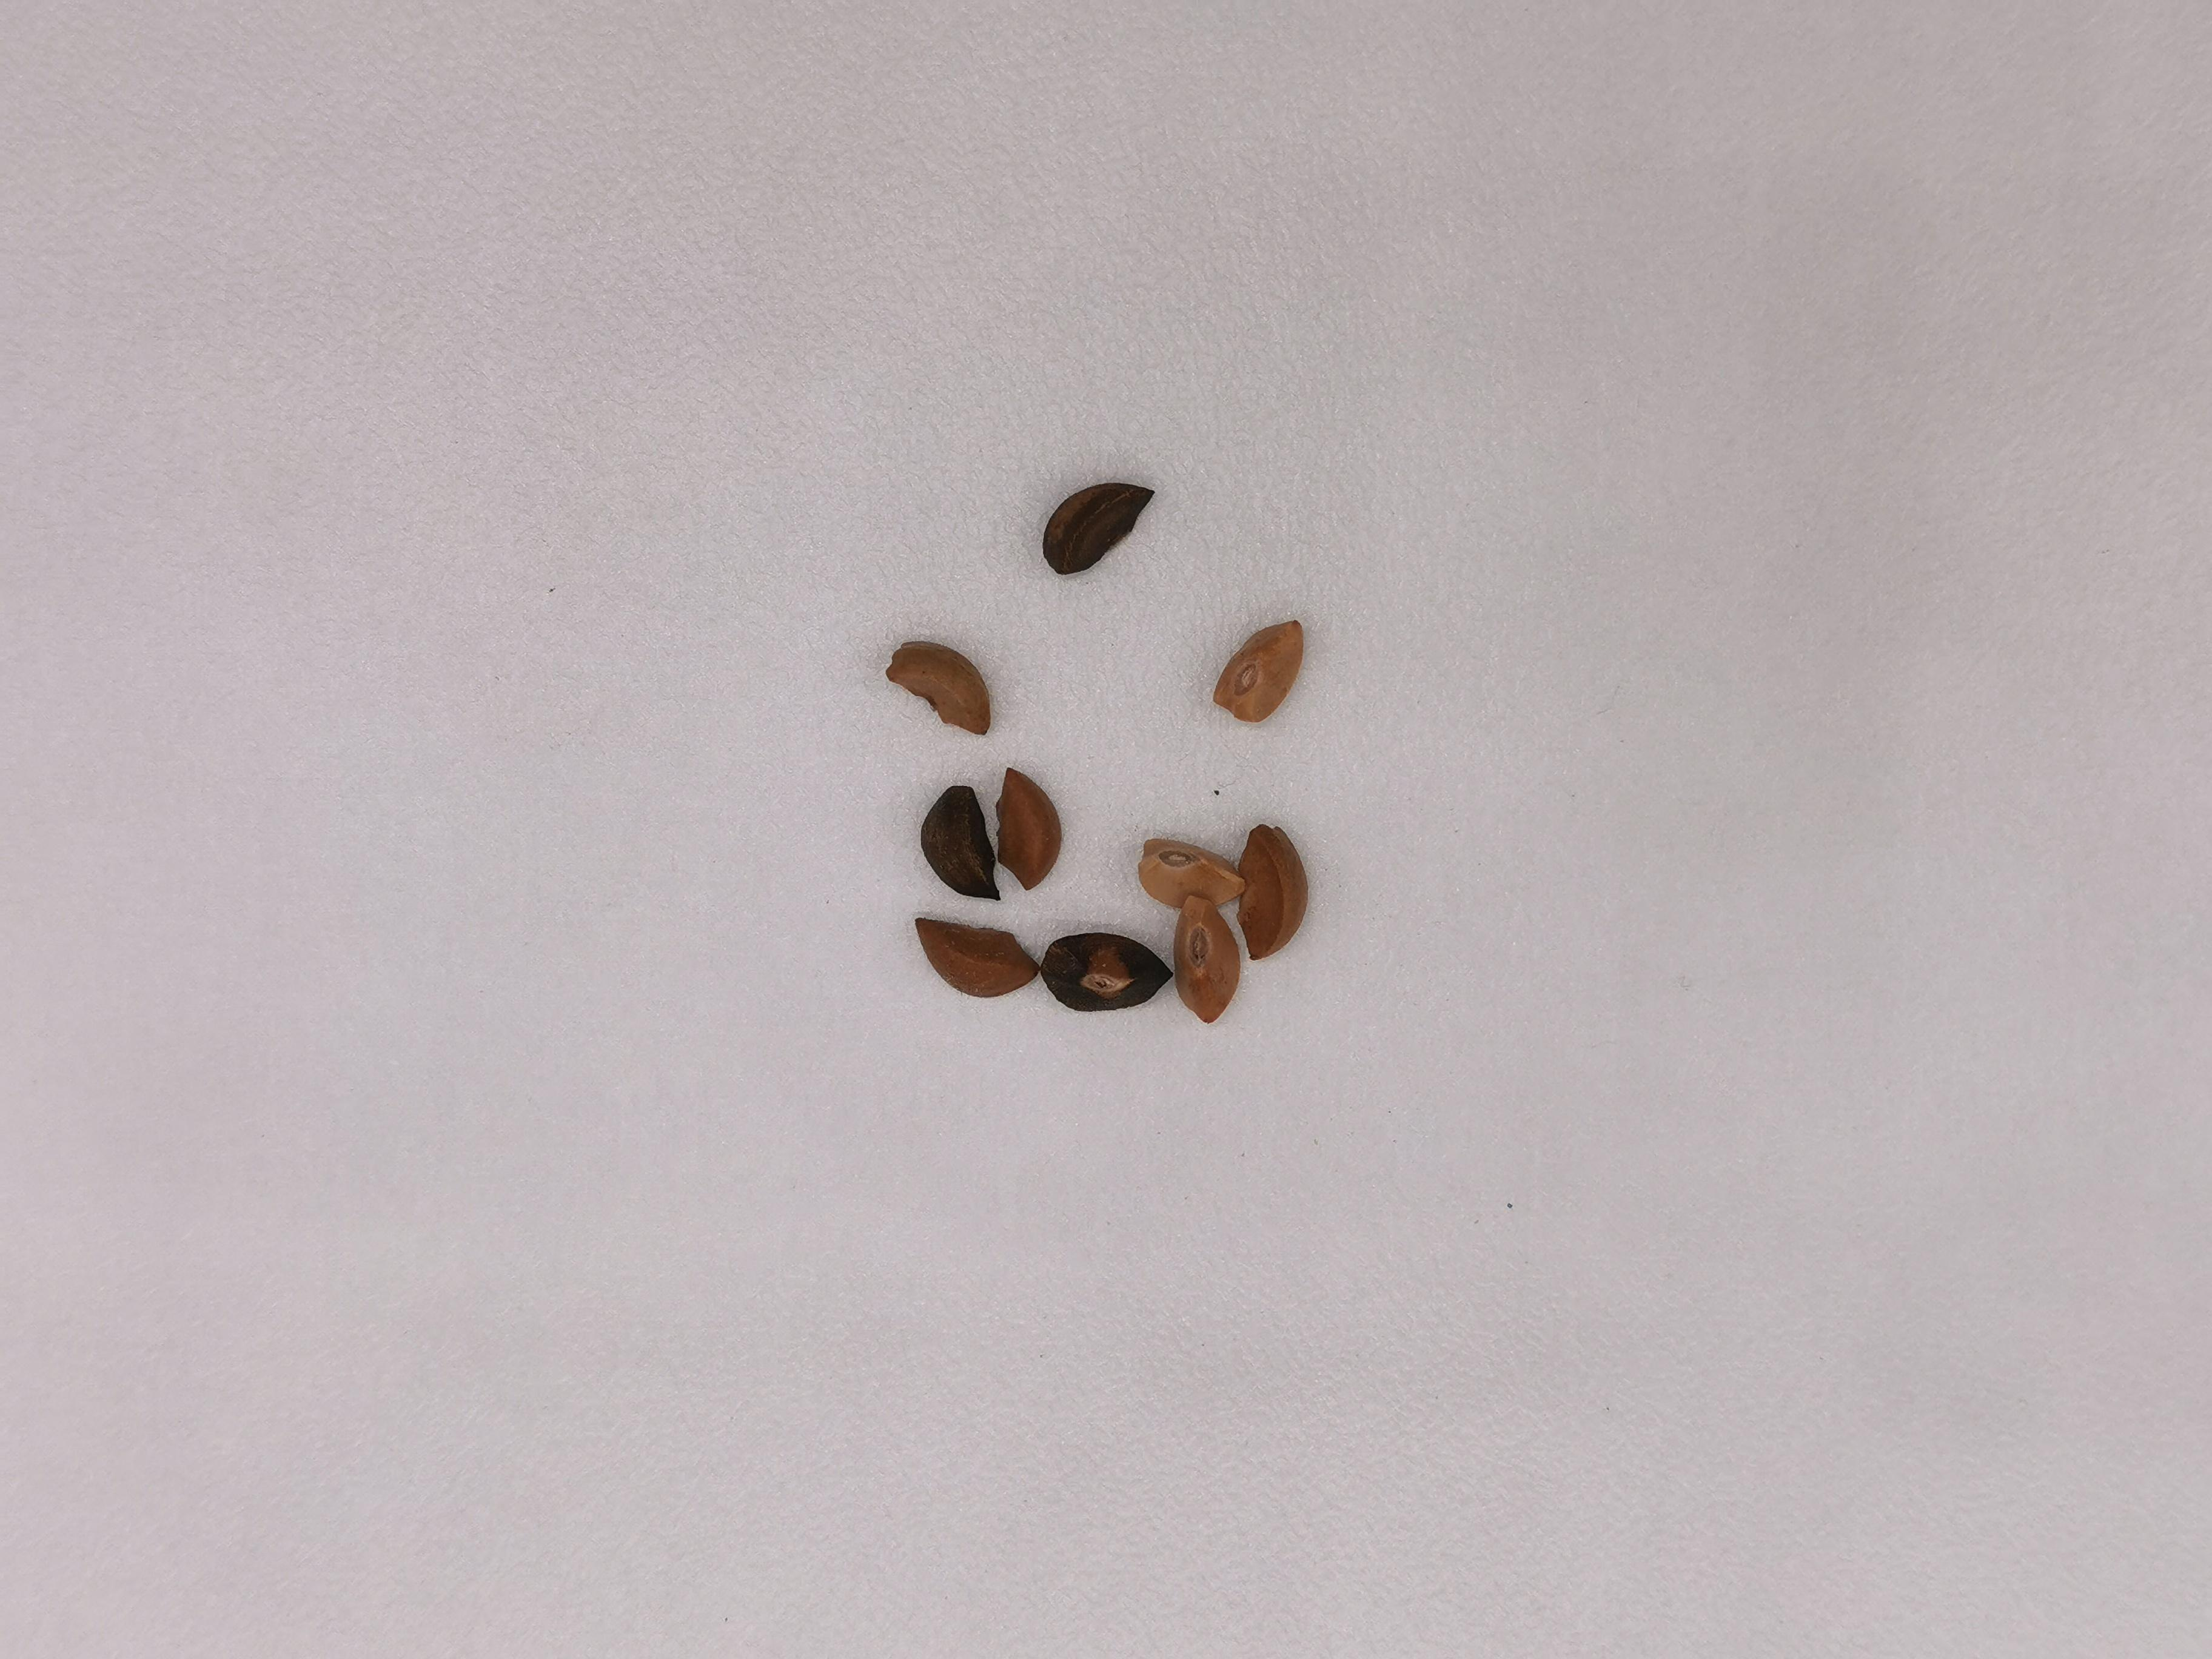seed: (880, 634, 993, 734), (1211, 612, 1308, 727), (1040, 479, 1153, 577), (1040, 931, 1169, 1012), (1237, 823, 1312, 960), (914, 918, 1038, 1000), (918, 782, 1003, 897), (993, 762, 1064, 890), (1172, 899, 1237, 1023), (1139, 842, 1247, 908)
